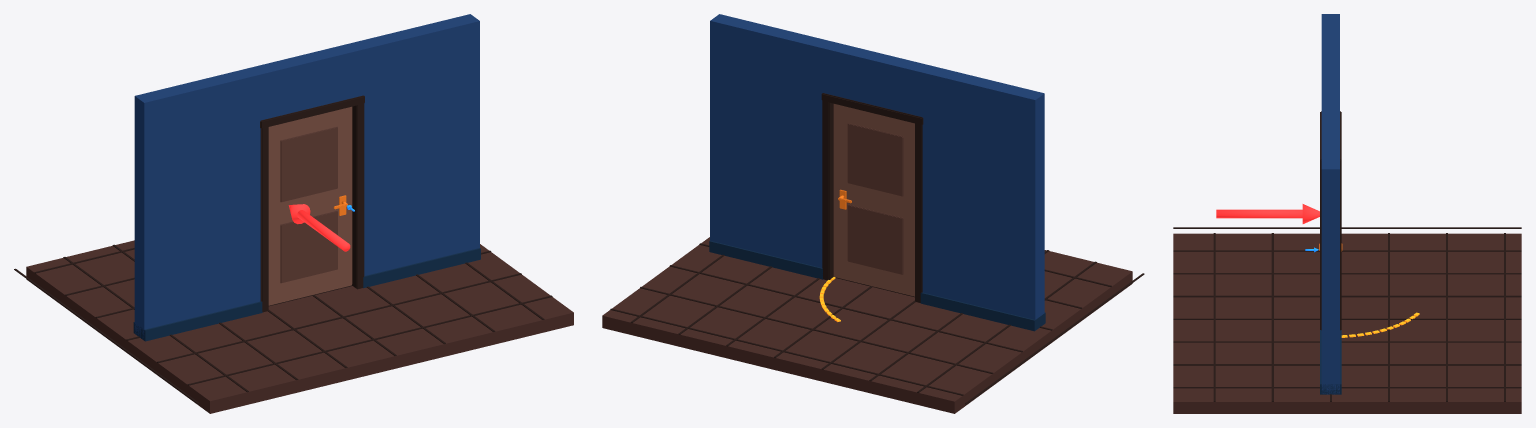
The model's file is bai1_moment_canh_cua.glb.
3 views of the same model, side by side, from view 1: azimuth 30°, elevation 25°; view 2: azimuth 150°, elevation 25°; view 3: azimuth 270°, elevation 25° (orthographic). The views are drawn at different scales.
Visible parts, largest first — view 1: Room_Floor, Wall_Left, Wall_Right, Door_Slab, Wall_Header, Door_Panel_1.68_-0.042, Door_Panel_0.64_-0.042, Frame_Right, Frame_Left, Baseboard_L, Baseboard_R, Frame_Top (+4 smaller); view 2: Room_Floor, Wall_Left, Wall_Right, Door_Slab, Wall_Header, Door_Panel_1.68_0.042, Door_Panel_0.64_0.042, Frame_Right, Baseboard_L, Frame_Left, Baseboard_R, Frame_Top (+4 smaller); view 3: Room_Floor, Wall_Right, Arrow_Force1_Large, Wall_Left, FloorGroove_X_0, Wall_Header, Frame_Right, FloorGroove_X_-3, FloorGroove_X_2, FloorGroove_X_-1, FloorGroove_X_3, FloorGroove_X_4 (+8 smaller).
Boxes of the visible parts, left/top/right/bottom form: Room_Floor: left=26, top=240, right=573, bottom=413; Wall_Left: left=134, top=67, right=261, bottom=339; Wall_Right: left=353, top=14, right=479, bottom=275; Door_Slab: left=268, top=106, right=352, bottom=305; Wall_Header: left=252, top=42, right=362, bottom=119; Door_Panel_1.68_-0.042: left=280, top=126, right=337, bottom=202; Door_Panel_0.64_-0.042: left=280, top=210, right=337, bottom=283; Frame_Right: left=352, top=103, right=364, bottom=289; Frame_Left: left=260, top=123, right=268, bottom=312; Baseboard_L: left=133, top=301, right=262, bottom=341; Baseboard_R: left=363, top=248, right=480, bottom=288; Frame_Top: left=260, top=95, right=364, bottom=128; Room_Floor: left=602, top=237, right=1132, bottom=413; Wall_Left: left=922, top=65, right=1044, bottom=319; Wall_Right: left=710, top=14, right=832, bottom=267; Door_Slab: left=833, top=104, right=914, bottom=296; Wall_Header: left=824, top=41, right=930, bottom=116; Door_Panel_1.68_0.042: left=847, top=123, right=903, bottom=196; Door_Panel_0.64_0.042: left=847, top=204, right=903, bottom=274; Frame_Right: left=822, top=97, right=834, bottom=280; Baseboard_L: left=920, top=292, right=1045, bottom=331; Frame_Left: left=915, top=123, right=922, bottom=302; Baseboard_R: left=709, top=240, right=823, bottom=279; Frame_Top: left=821, top=93, right=923, bottom=124; Room_Floor: left=1173, top=233, right=1521, bottom=413; Wall_Right: left=1321, top=115, right=1339, bottom=394; Arrow_Force1_Large: left=1216, top=204, right=1319, bottom=223; Wall_Left: left=1321, top=14, right=1339, bottom=67; FloorGroove_X_0: left=1173, top=295, right=1521, bottom=297; Wall_Header: left=1321, top=68, right=1339, bottom=114; Frame_Right: left=1320, top=166, right=1341, bottom=330; FloorGroove_X_-3: left=1173, top=227, right=1521, bottom=228; FloorGroove_X_2: left=1173, top=341, right=1521, bottom=342; FloorGroove_X_-1: left=1173, top=273, right=1521, bottom=274; FloorGroove_X_3: left=1173, top=364, right=1521, bottom=365; FloorGroove_X_4: left=1173, top=387, right=1521, bottom=388.
Size of the model in its own units: 4.96 by 3.16 by 4.2.
